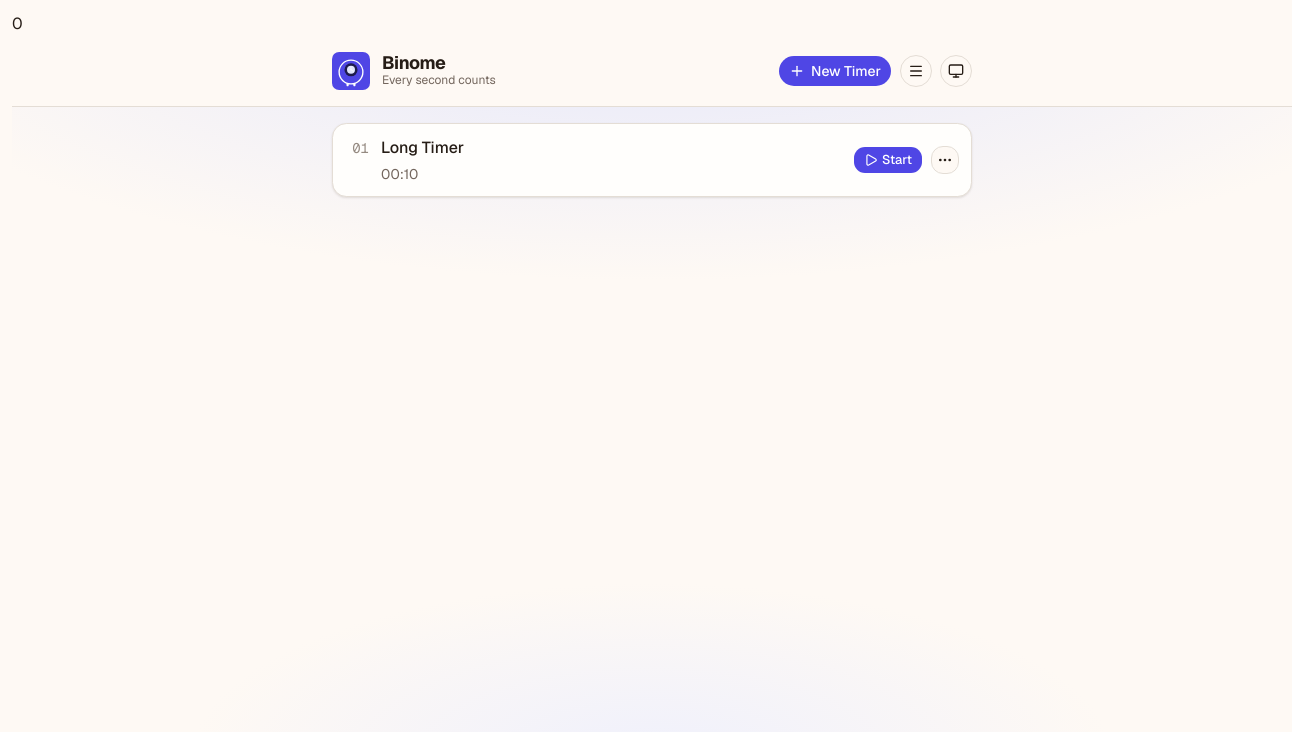
Test: AppShell — integration › Back to List stops the timer › resets remaining to zero when Back to List is clicked
Click the button "Start" at (888, 160), box [853,146,923,174]
Wait 3000 ms
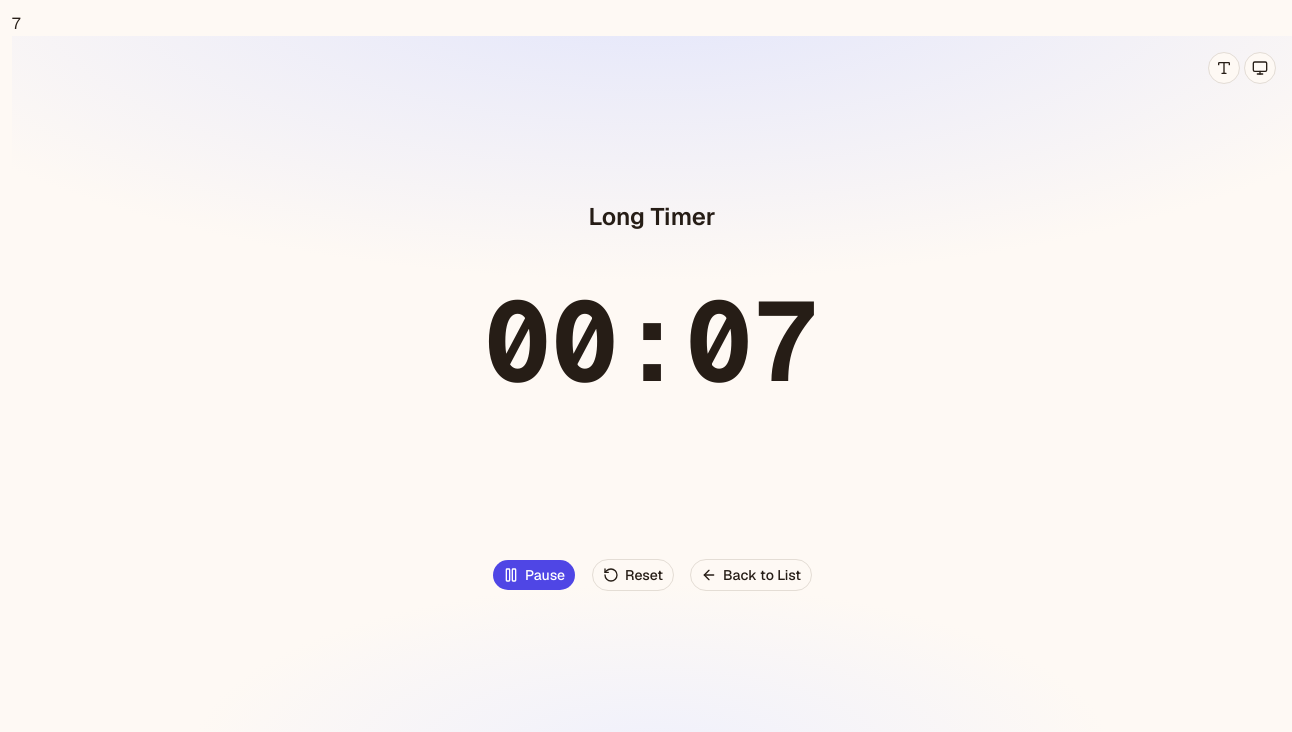
Click the button "Back to List" at (751, 575), box [690,559,812,591]
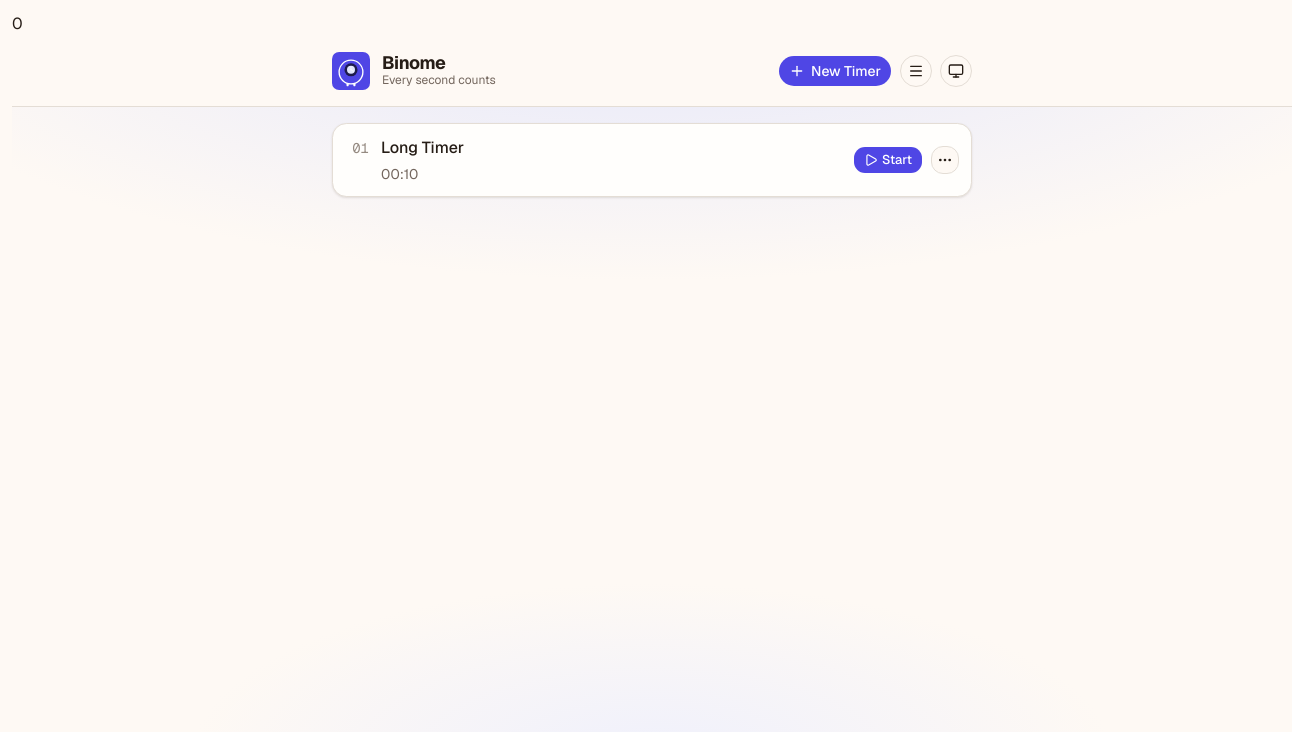
Now the text with test id "remaining" reads "0", box [12,13,23,34]
